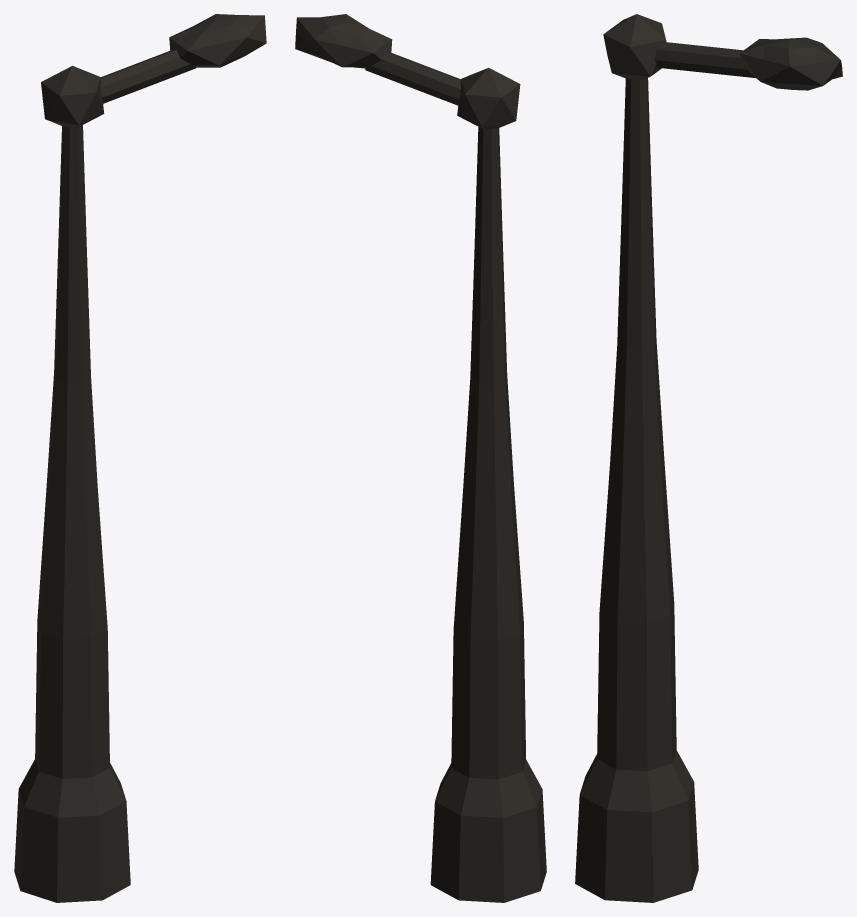
File: SM_Prop_StreetLamp.fbx
The picture shows the model from 3 angles, left to right: view 1: azimuth 30°, elevation 25°; view 2: azimuth 150°, elevation 25°; view 3: azimuth 330°, elevation 25°; orthographic projection. The views are drawn at different scales.
Visible parts, largest first — view 1: Cylinder; view 2: Cylinder; view 3: Cylinder.
Part boxes in pixels (box(x1,y1,x2,y2)): Cylinder: box(14, 14, 266, 902); Cylinder: box(295, 14, 546, 902); Cylinder: box(575, 14, 842, 902).
Bounding box in the file's own units: 200 × 468 × 1507.
